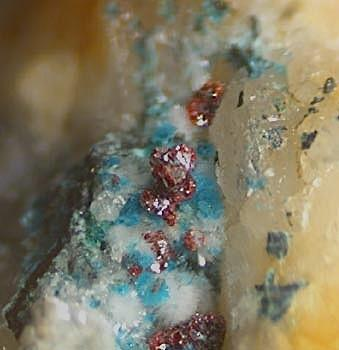cuprite: (142, 144, 197, 226), (148, 313, 226, 350), (188, 81, 226, 128), (144, 232, 176, 274), (185, 230, 205, 251), (152, 278, 168, 292)
